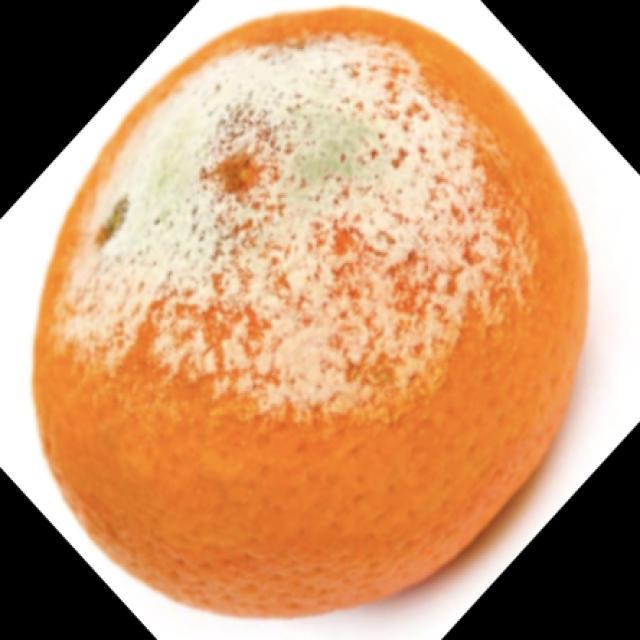sedikit-busuk: (35, 10, 585, 614), (53, 38, 535, 422)
